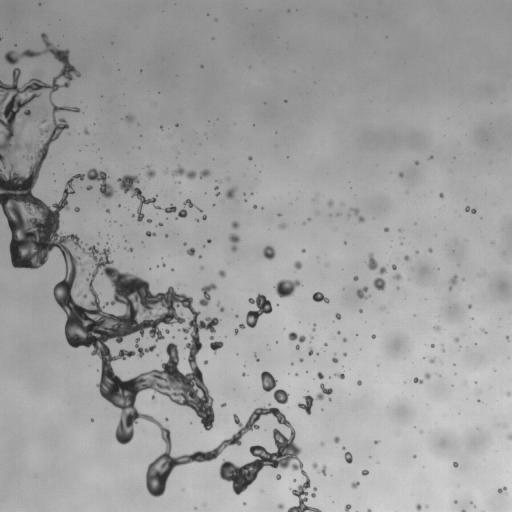droplet: (274, 279, 301, 297), (210, 335, 223, 353), (228, 233, 239, 252), (288, 331, 305, 343), (262, 245, 275, 260), (312, 292, 329, 303), (356, 286, 370, 299), (367, 253, 377, 270), (145, 165, 155, 179), (175, 208, 187, 219), (226, 187, 236, 199), (199, 169, 210, 178), (186, 247, 194, 256), (334, 372, 344, 379), (231, 221, 239, 229), (294, 261, 302, 269), (125, 115, 134, 122), (498, 486, 507, 493), (413, 377, 423, 383), (351, 481, 359, 488), (218, 270, 225, 277), (317, 372, 324, 379), (146, 231, 155, 236), (278, 223, 285, 229), (361, 469, 368, 475), (345, 504, 351, 511), (308, 347, 313, 355), (327, 200, 333, 206), (335, 313, 341, 319), (434, 325, 440, 331), (332, 356, 338, 362), (424, 373, 430, 379), (277, 503, 283, 509), (394, 274, 401, 279), (334, 436, 339, 443), (416, 504, 421, 511), (86, 185, 92, 190), (404, 255, 409, 261), (453, 461, 458, 467), (74, 207, 79, 212), (429, 358, 434, 363), (276, 474, 281, 479), (156, 222, 162, 226), (507, 434, 511, 440), (84, 129, 88, 134), (439, 192, 443, 197), (202, 215, 206, 220), (384, 227, 389, 231), (392, 264, 396, 269), (353, 276, 358, 280), (295, 345, 299, 350), (357, 380, 361, 385), (506, 392, 511, 396), (374, 440, 379, 444), (248, 156, 252, 160), (399, 172, 403, 176), (207, 239, 211, 243), (428, 248, 432, 252), (165, 329, 169, 333), (454, 337, 458, 341), (342, 338, 346, 342), (299, 358, 303, 362), (203, 360, 207, 364), (127, 248, 132, 251), (221, 403, 226, 406), (253, 205, 256, 209), (106, 209, 109, 213), (147, 219, 151, 222), (381, 306, 384, 310), (372, 334, 375, 338), (151, 395, 154, 399), (413, 454, 416, 458), (367, 509, 372, 511), (429, 156, 432, 159), (415, 161, 418, 164), (196, 218, 199, 221), (302, 249, 305, 252), (162, 263, 165, 266), (468, 305, 471, 308), (359, 309, 362, 312), (310, 336, 313, 339), (506, 337, 509, 340), (431, 344, 434, 347), (343, 352, 346, 355), (442, 348, 444, 352), (461, 509, 465, 511), (160, 126, 162, 129), (336, 213, 339, 215), (347, 214, 350, 216), (307, 218, 310, 220), (199, 255, 201, 258), (396, 287, 399, 289), (337, 331, 340, 333), (324, 343, 327, 345), (242, 373, 245, 375), (328, 398, 331, 400), (165, 418, 168, 420), (420, 430, 422, 433), (321, 442, 323, 445), (454, 500, 456, 503), (425, 505, 428, 507), (200, 65, 202, 67), (43, 113, 45, 115), (278, 213, 280, 215), (399, 229, 401, 231), (416, 250, 418, 252), (200, 267, 202, 269), (171, 269, 173, 271), (295, 373, 297, 375), (91, 419, 93, 421), (293, 479, 295, 481), (243, 503, 245, 505)
ligament: (0, 33, 321, 511), (118, 174, 176, 221), (235, 293, 272, 334), (297, 383, 332, 414), (261, 371, 288, 404), (199, 283, 216, 306), (172, 166, 196, 179), (373, 266, 386, 290), (183, 199, 201, 211), (351, 208, 364, 222), (312, 463, 326, 475), (342, 447, 352, 463), (449, 274, 457, 289), (465, 206, 476, 213), (217, 302, 224, 311), (214, 185, 219, 196), (481, 328, 486, 333), (254, 354, 258, 360), (41, 118, 45, 123), (471, 502, 475, 507), (312, 324, 315, 330), (0, 37, 1, 40)
